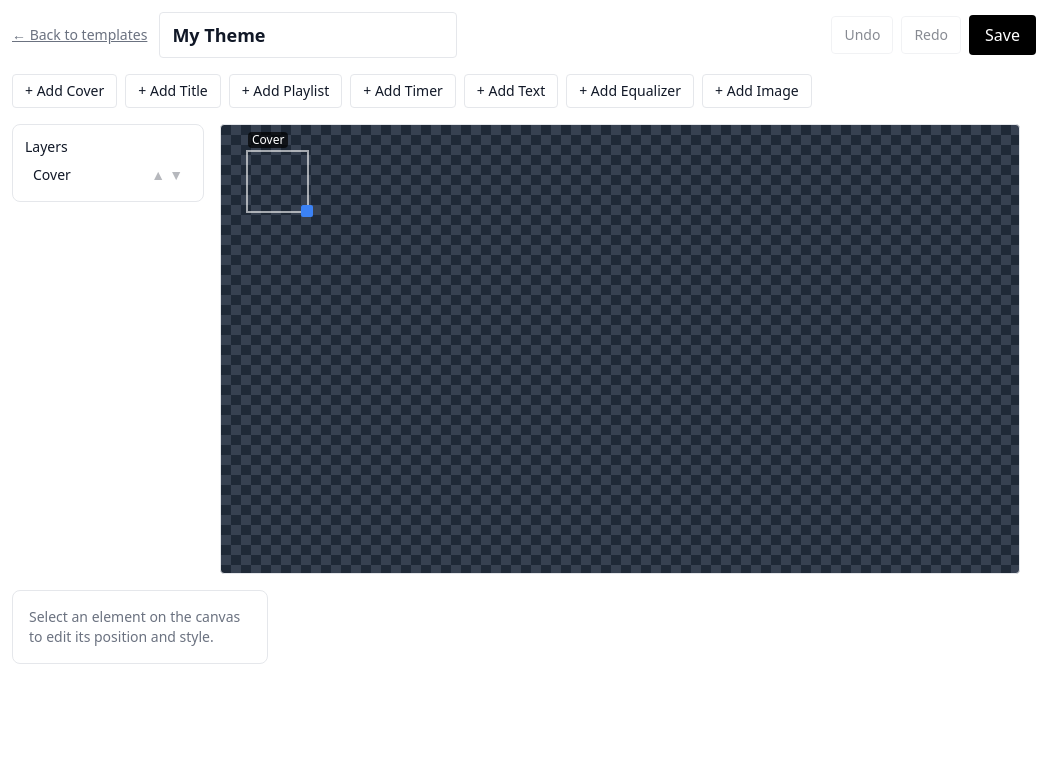
Test: TemplateEditor › starting a drag on an element box selects it (pointerdown, same as a click)
Press the mouse on the text "Cover" at (277, 181), box [246,150,308,212]
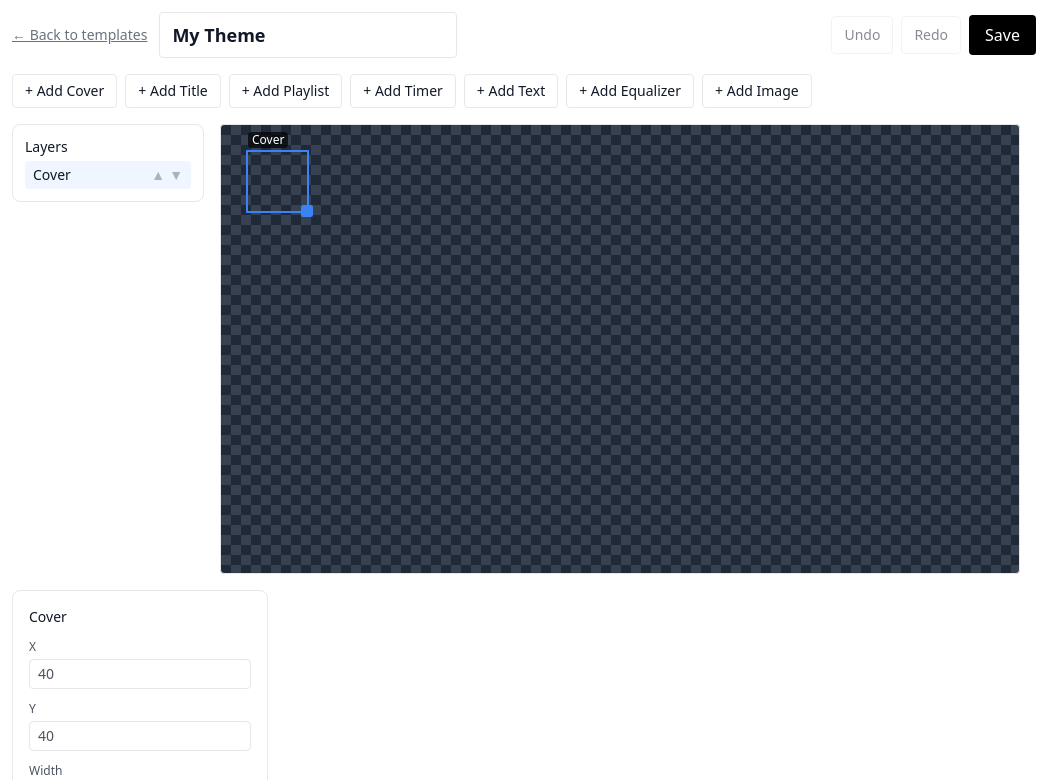
Result: the number field labelled "X" is shown at [29,659,251,689]
